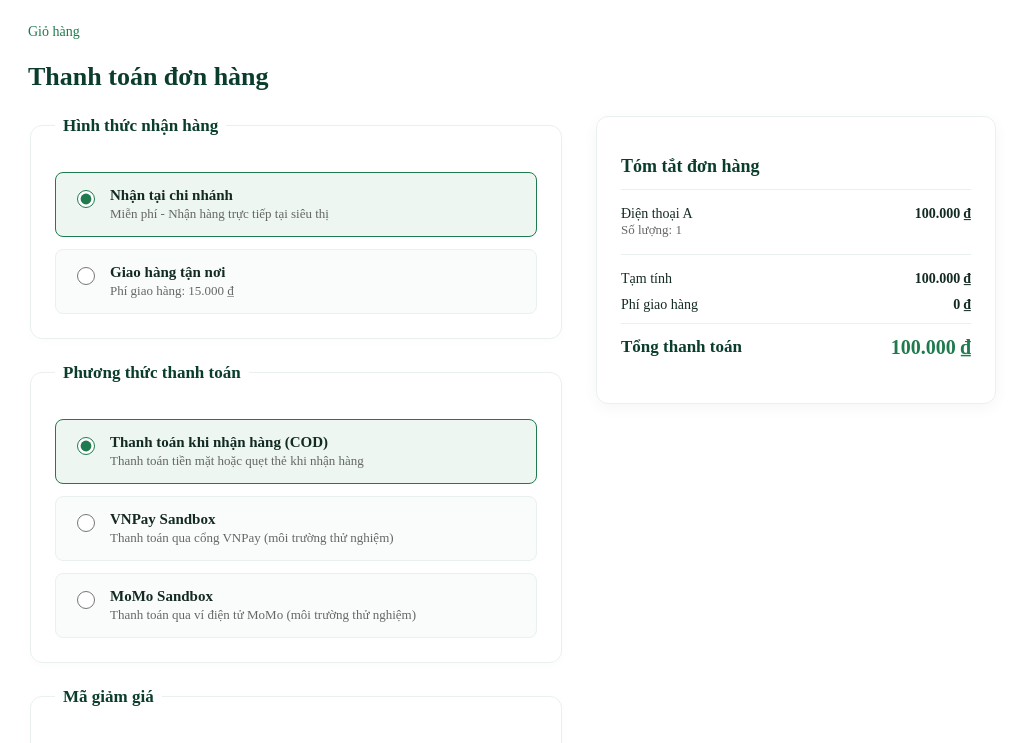
Test case: CheckoutPage › loads saved addresses and pre-fills the selected address
Click the radio button labelled "Giao hàng tận nơi Phí giao hàng: 15.000 ₫" at x=86, y=276, box x1=77 y1=267 x2=95 y2=285
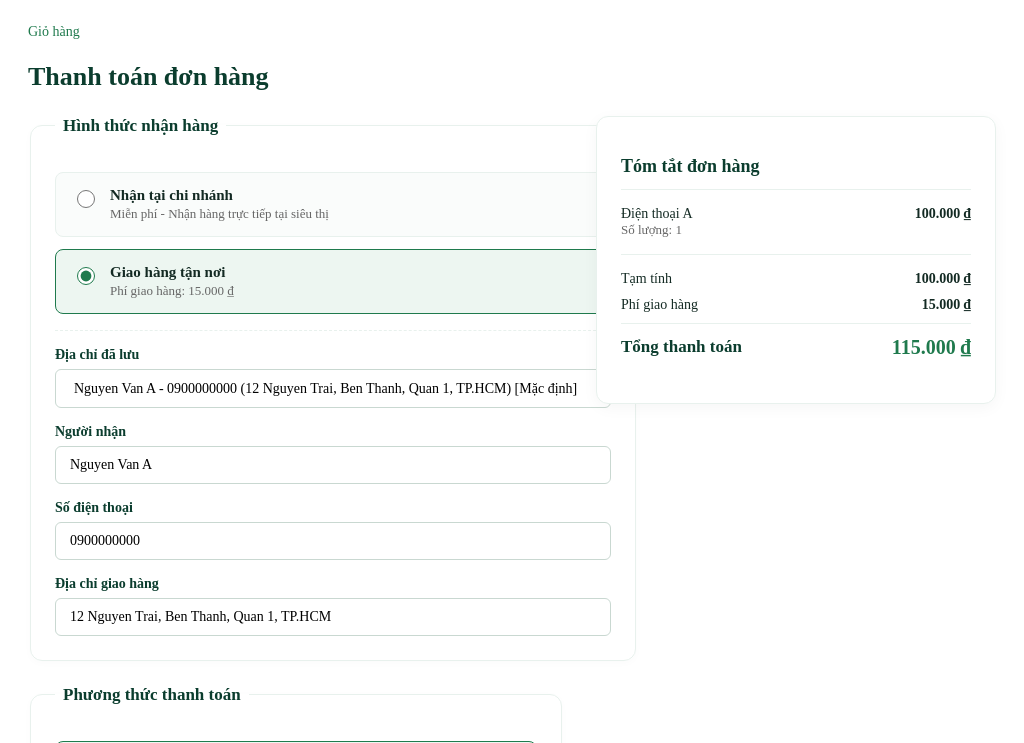
Check: the field showing "Nguyen Van A" is shown, box x1=55 y1=446 x2=611 y2=484
Check: the field showing "0900000000" is shown, box x1=55 y1=522 x2=611 y2=560
Check: the field showing "12 Nguyen Trai, Ben Thanh, Quan 1, TP.HCM" is shown, box x1=55 y1=598 x2=611 y2=636
